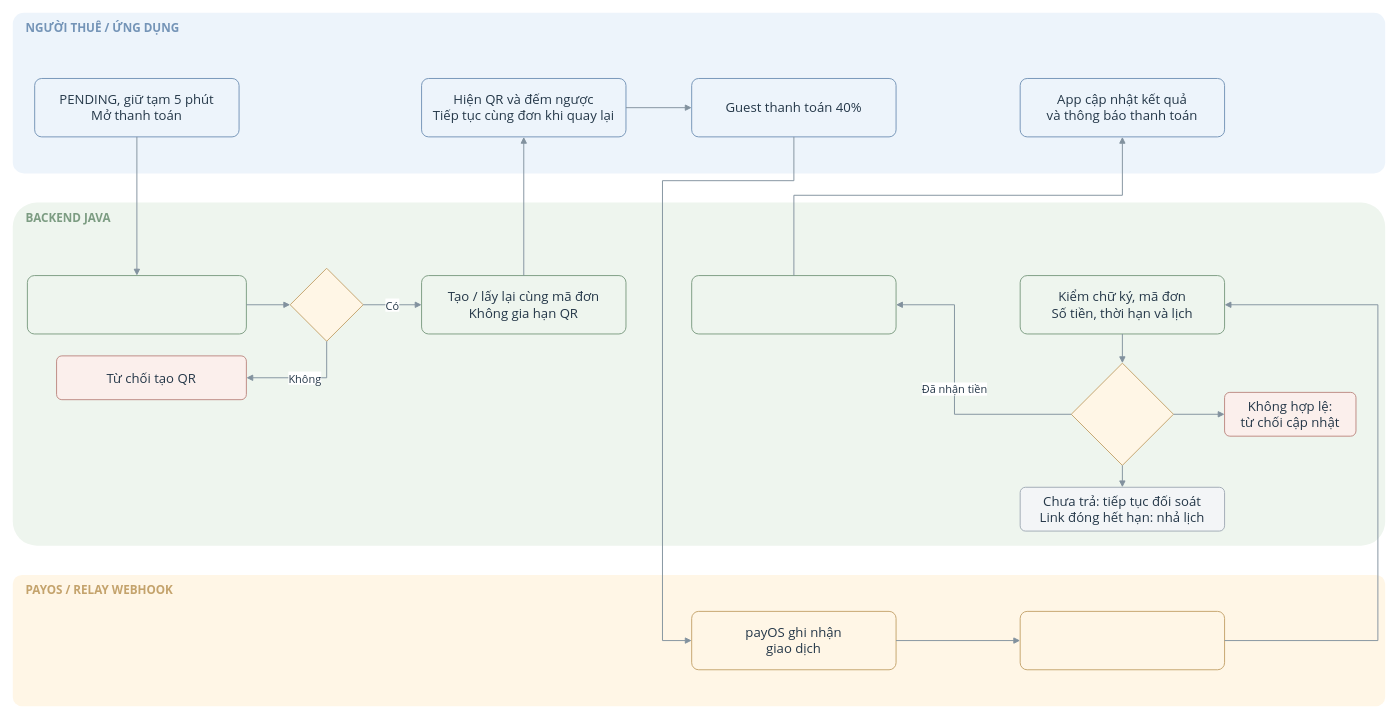
Some shapes in this 1397 by 718 pixel diagram are drawn without their labels. The shapes that lost their labels are listed below. From the top down, each one's centre as x and y in pixels, then its label:
At (x=137, y=304): "Xác thực Guest, Host demo Kiểm tra giá, lịch và hạn".
At (x=326, y=304): "Hợp lệ?".
At (x=793, y=304): "Đủ 40%: PAID + CONFIRMED Tiền sai: REVIEW_REQUIRED".
At (x=1122, y=414): "Kết quả đối chiếu?".
At (x=1122, y=640): "Webhook qua WEB_TCC relay".
